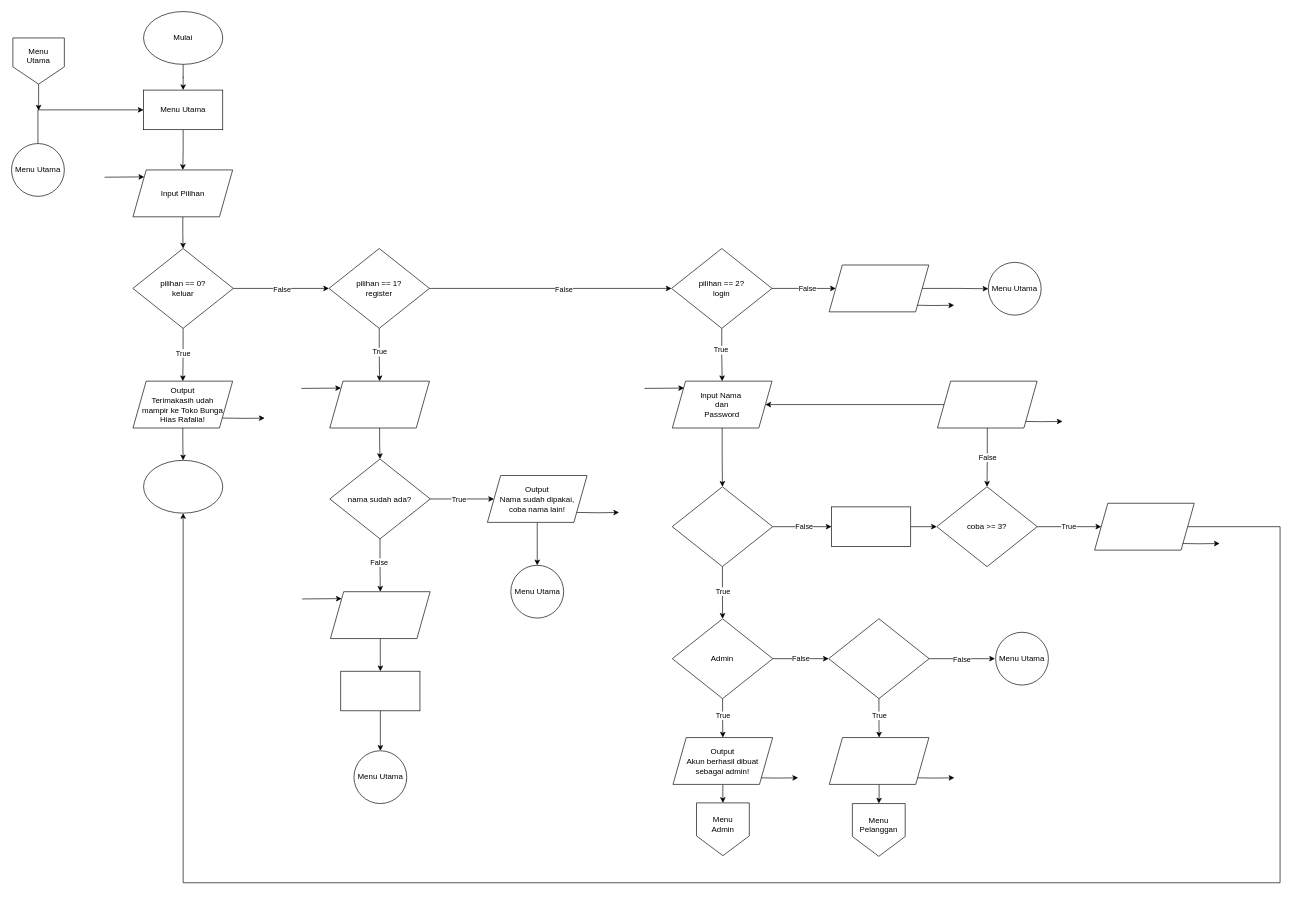
Some shapes in this 1297 by 900 pixel diagram are drawn without their labels. The shapes that lost their labels are listed below. From the top down, each one's centre as x and y in pixels, then its label:
At (878,288): "Output Pilihan tidak valid!".
At (379,404): "Input Nama".
At (987,404): "Output Kesempatan sisa 3 (3 - coba)".
At (183,486): "Selesai".
At (722,526): "login berhasil?".
At (871,526): "coba = +1".
At (1144,526): "Output Terlalu banyak percobaan, program berhenti".
At (380,615): "Input Password".
At (878,658): "Pelanggan".
At (380,691): "Data Disimpan".
At (879,760): "Output Akun berhasil dibuat sebagai pelanggan!".
